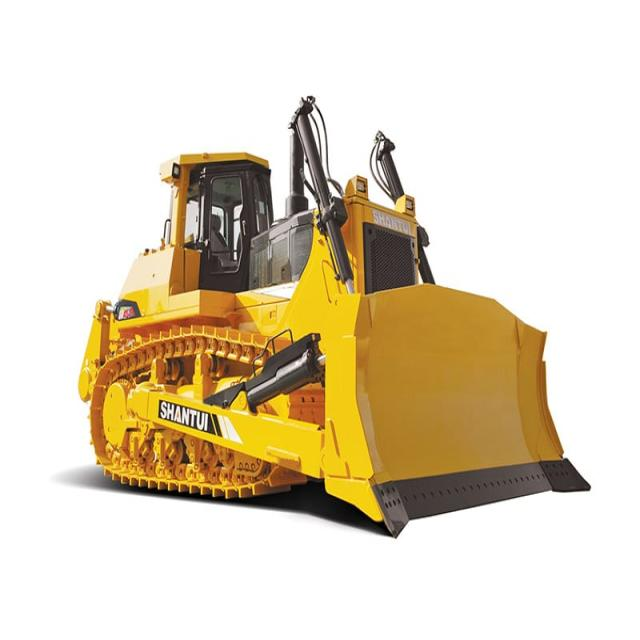buldozerpayloadergrader: (86, 92, 594, 528)
